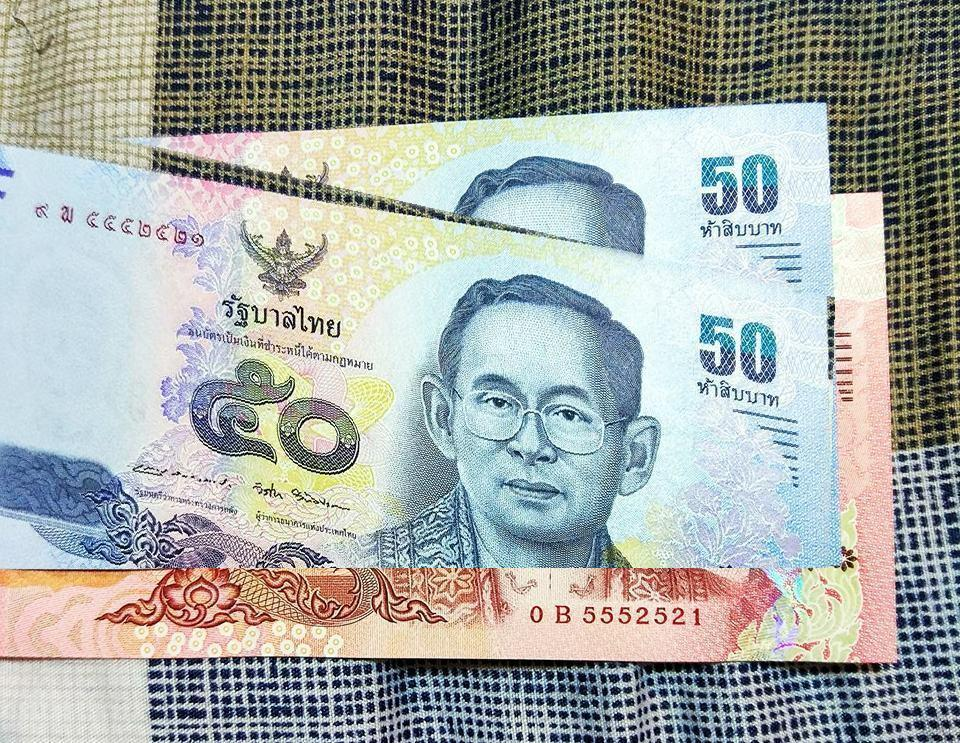50BahtTai: (0, 112, 835, 568)
